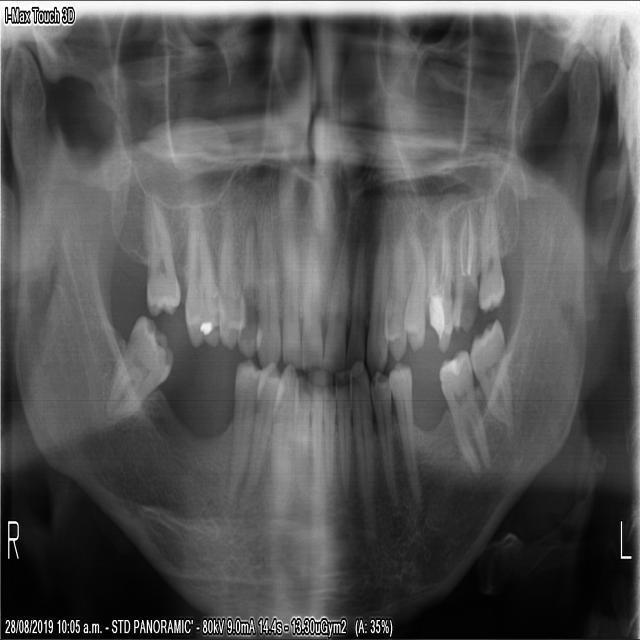LCD: (347, 350, 379, 544)
LCU: (365, 237, 393, 369)
LID: (334, 382, 350, 501), (321, 380, 336, 489)
LIU: (321, 233, 349, 375), (347, 235, 369, 366)
LMD: (437, 339, 493, 480), (465, 319, 515, 427)
LMU: (427, 243, 453, 353), (454, 225, 481, 327), (477, 210, 504, 309)
LPMD: (388, 357, 424, 512), (368, 368, 401, 509)
LPMU: (383, 239, 409, 360), (402, 239, 427, 355)
RCD: (239, 361, 279, 500)
RID: (271, 358, 298, 505), (291, 372, 312, 491), (310, 378, 325, 499)
RIU: (254, 232, 281, 362), (298, 235, 322, 371), (280, 233, 299, 367)
RMD: (102, 312, 175, 417)
RMU: (183, 206, 225, 349), (143, 200, 181, 318)
RPMD: (226, 355, 257, 500)
RPMU: (214, 219, 245, 353), (235, 217, 259, 357)
